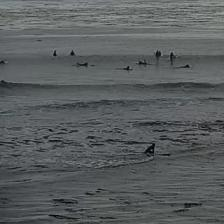surfer: (137, 60, 151, 64), (75, 62, 87, 66), (122, 66, 132, 70), (155, 50, 161, 56), (170, 52, 176, 58), (0, 59, 6, 64), (54, 50, 58, 57), (181, 65, 190, 68), (70, 50, 75, 55)
